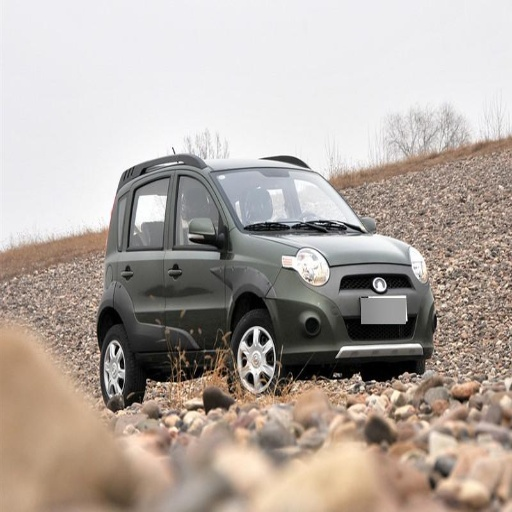front_bumper: (273, 264, 431, 361)
front_right_door: (164, 166, 225, 351)
front_right_light: (285, 249, 330, 286)
